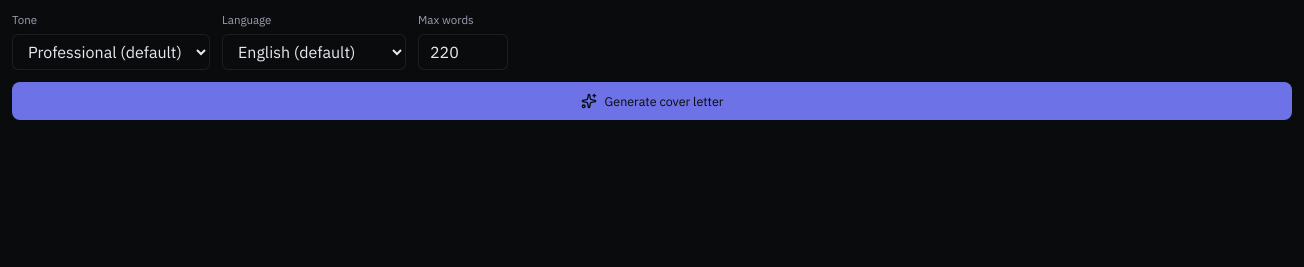
Test case: CoverLetterPanel › leaves copy and save enabled for a clean letter
The width and height of the screenshot is (1304, 267).
Click the button "Generate cover letter" at (652, 101), box [12,82,1292,120]
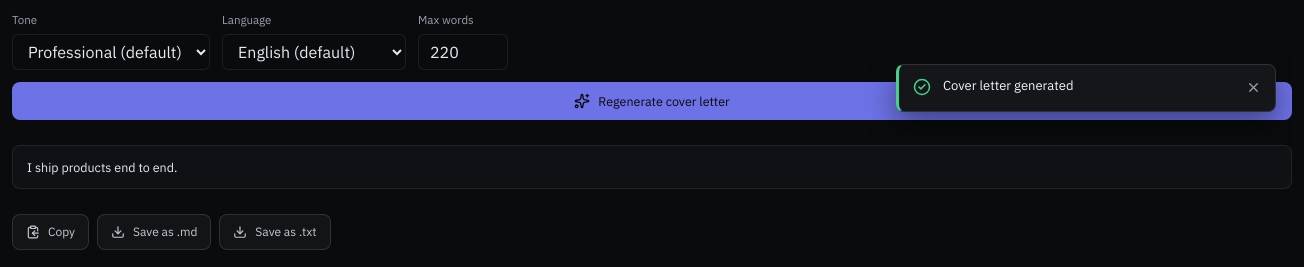
Now the text "I ship products end to end." is shown, box [12,144,1292,189]
Now the button "Copy" is enabled, box [12,214,89,250]
